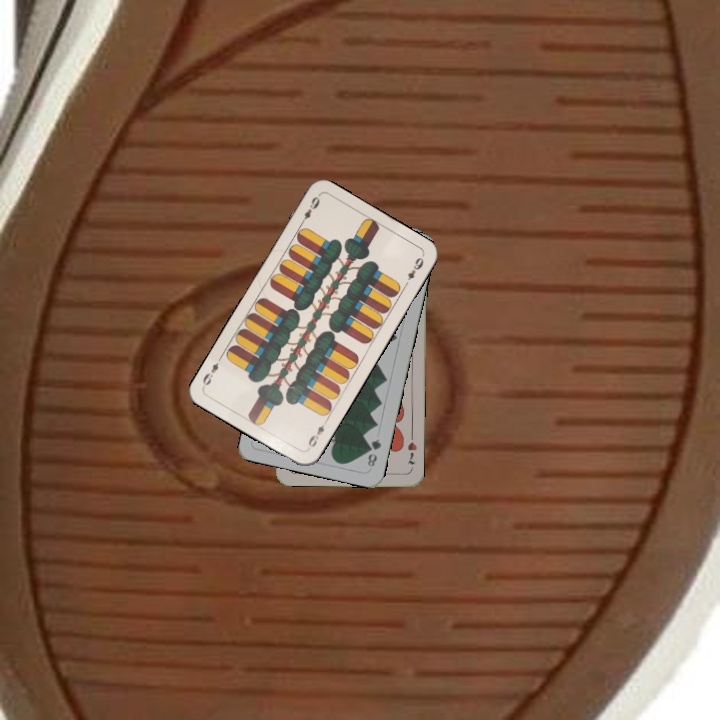E9: (296, 192, 322, 228), (304, 420, 327, 452)
G8: (364, 435, 384, 470)
H7: (403, 438, 419, 467)
